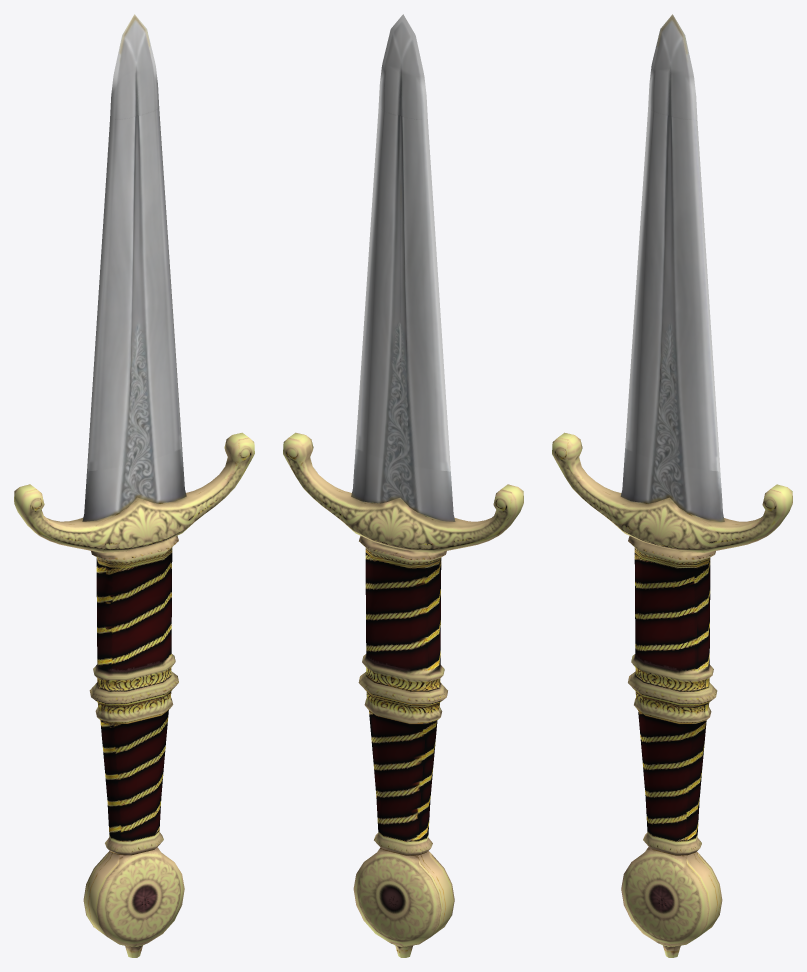
File: w_dagger_t3.glb
3 renders of one model, left to right at view 1: azimuth 30°, elevation 25°; view 2: azimuth 150°, elevation 25°; view 3: azimuth 330°, elevation 25°, orthographic.
Visible parts, largest first — view 1: Dagger:0; view 2: Dagger:0; view 3: Dagger:0.
Part boxes in pixels (x1,y1,x2,y2): Dagger:0: [14, 14, 254, 957]; Dagger:0: [283, 14, 523, 957]; Dagger:0: [552, 14, 792, 957].
Bounding box in the file's own units: 8.27 × 31.71 × 1.79.
Materials: 1 (1 with a texture image).
